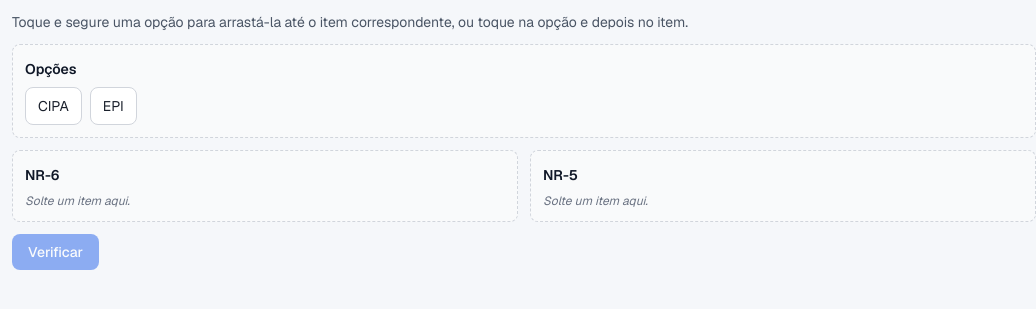
Test: matching › unlocks the check only once every token is assigned
This screenshot has width=1036, height=309.
Expected: the button "Verificar" is disabled, [12,234,99,270]
Click the button "EPI". click: (113, 106)
box: [90,87,137,125]
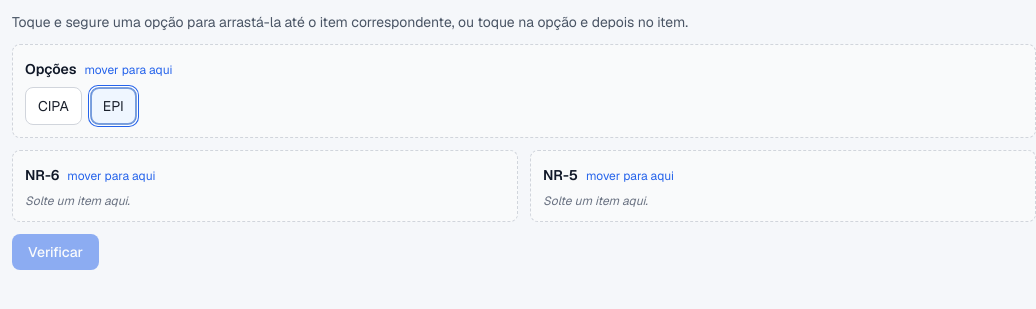
Click the button "NR-6mover para aqui". click: (42, 175)
box: [25,165,505,185]
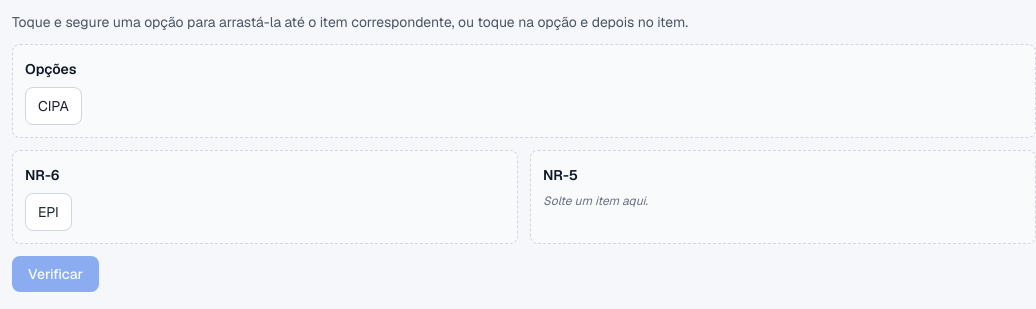
Expected: the button "Verificar" is disabled, [12,256,99,292]
Click the button "CIPA". click: (53, 106)
box: [25,87,82,125]
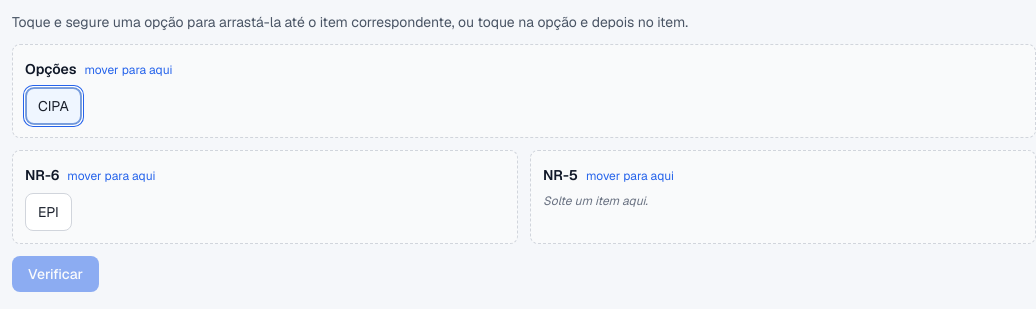
Click the button "NR-5mover para aqui". click: (560, 175)
box: [543,165,1023,185]
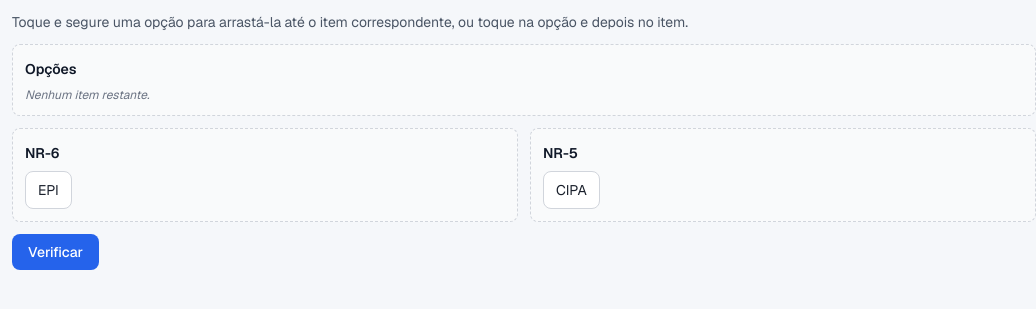
Expected: the button "Verificar" is enabled, [12,234,99,270]
